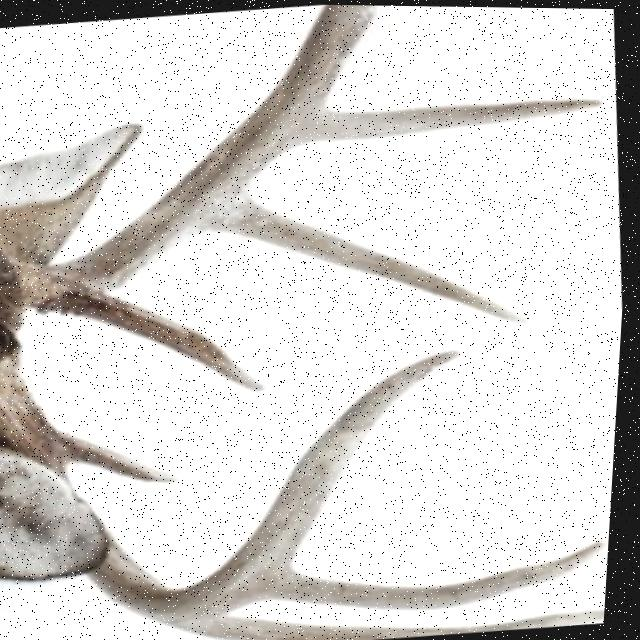L-G1: (63, 429, 186, 481)
L-G2: (186, 606, 612, 640)
L-G3: (269, 536, 615, 607)
R-F: (9, 4, 374, 314)
R-G1: (63, 291, 272, 389)
R-G2: (224, 195, 537, 322)
R-G3: (305, 95, 606, 139)
